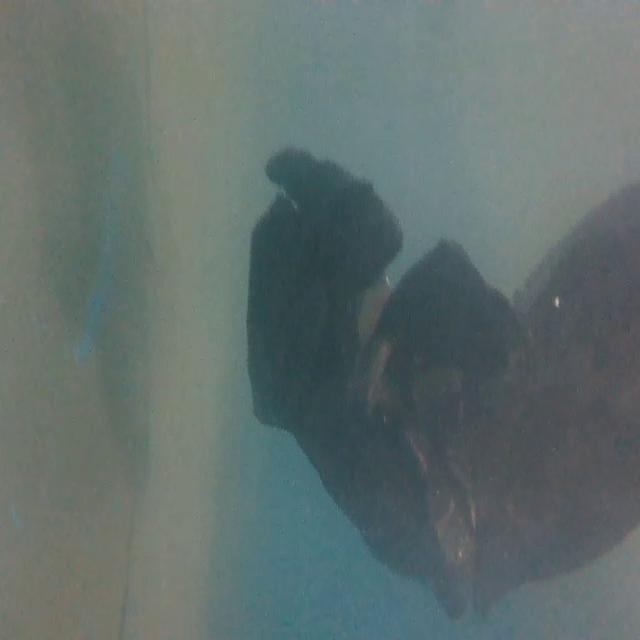plastic bags: (239, 144, 640, 595)
